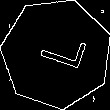L_W: (28, 31, 85, 76)
